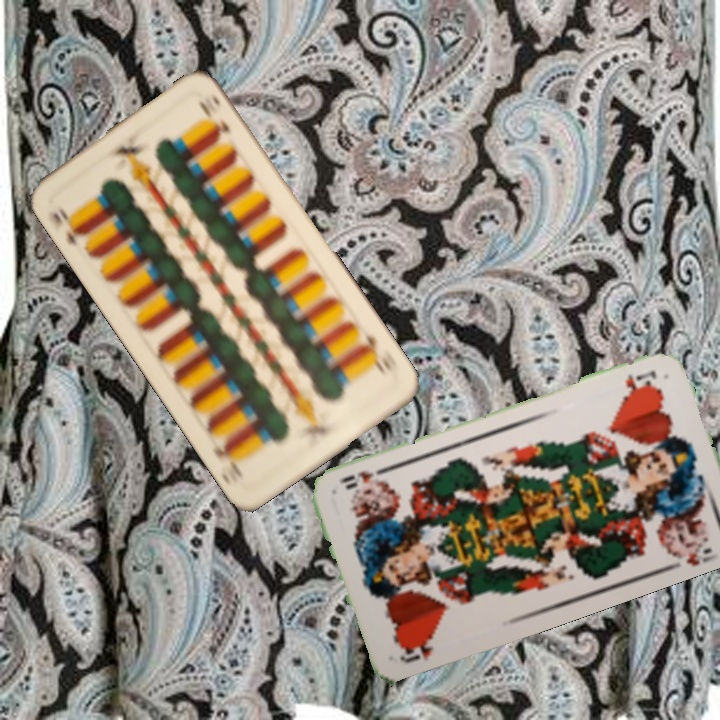E10: (48, 203, 89, 250), (355, 331, 392, 377)
HO: (396, 633, 436, 666), (621, 366, 659, 394)
